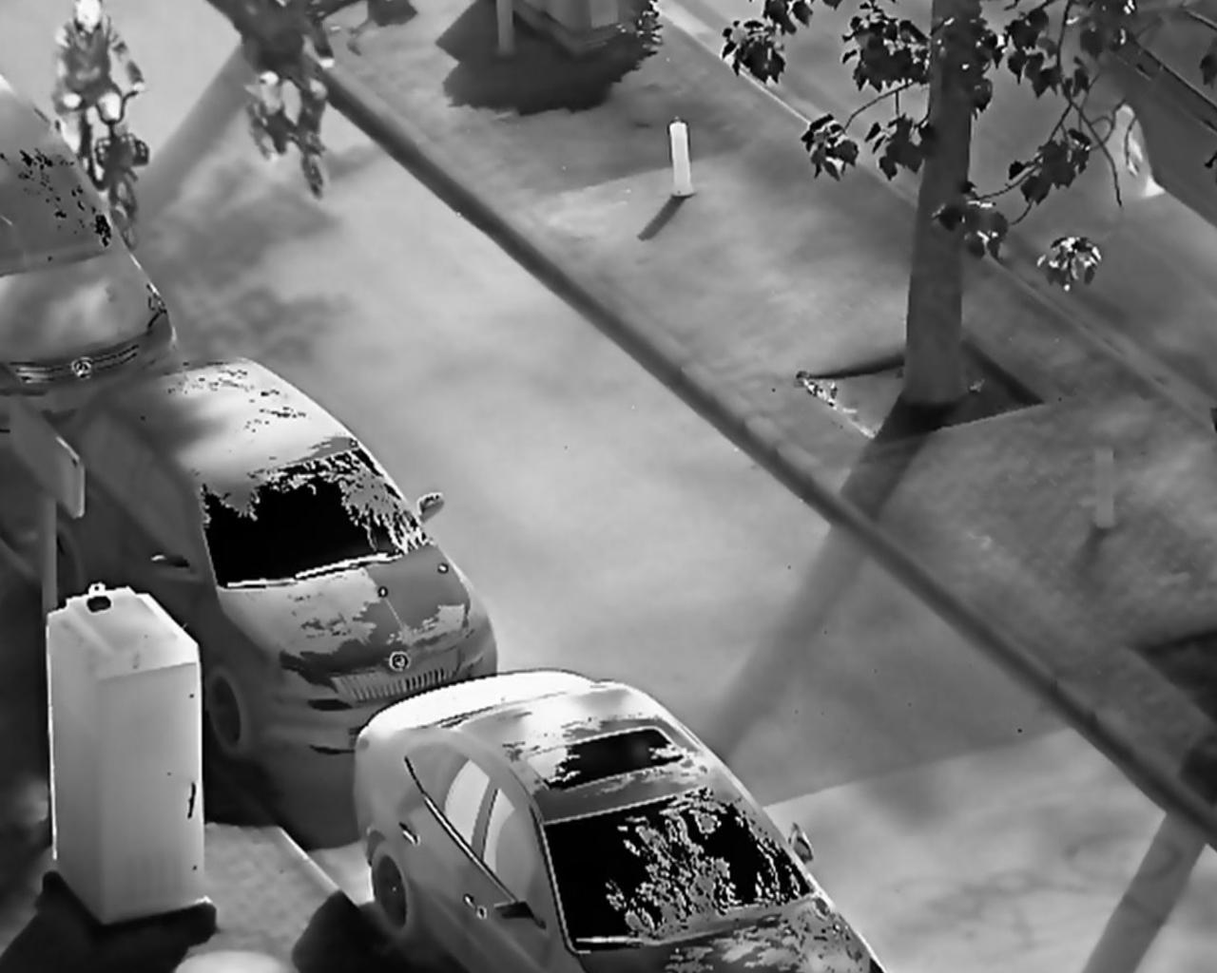person: (237, 2, 337, 161)
